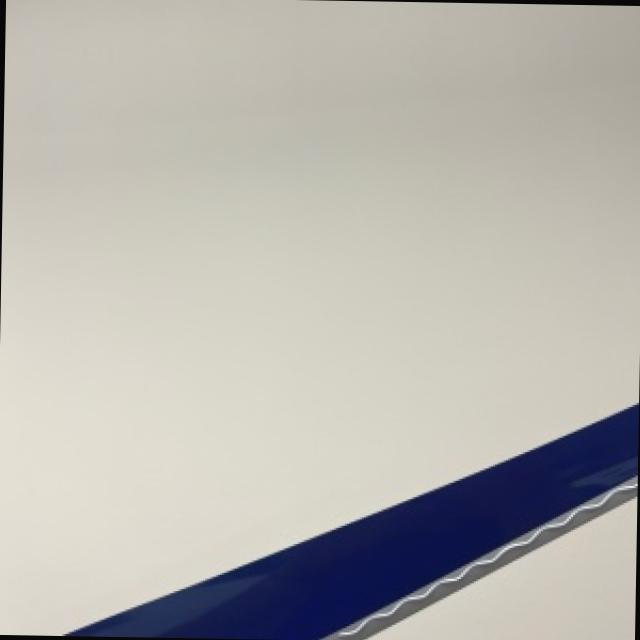healthy: (67, 402, 637, 639), (372, 498, 634, 640)
